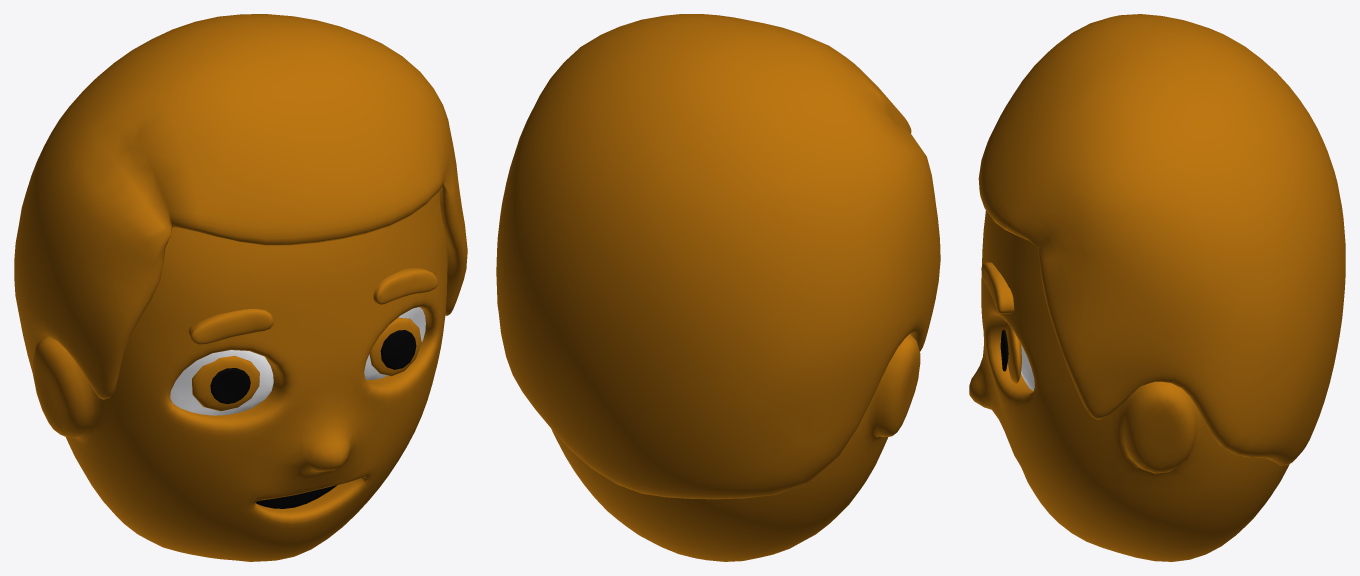
Rendered from man FBX.FBX.
The picture shows the model from 3 angles, left to right: view 1: azimuth 30°, elevation 25°; view 2: azimuth 150°, elevation 25°; view 3: azimuth 270°, elevation 25°; orthographic projection. The views are drawn at different scales.
Parts seen in each view (by area): view 1: Group27742, Group003, Group52900, Group1, ZBrush_defualt_group001, ZBrush_defualt_group, ZBrush_defualt_group002, Group002, Group5453; view 2: Group27742, Group003; view 3: Group27742, Group003, ZBrush_defualt_group, Group002.
Part boxes in pixels (<box>): Group27742: <box>14,14,467,399</box>; Group003: <box>33,190,447,561</box>; Group52900: <box>170,307,425,415</box>; Group1: <box>188,309,273,344</box>; ZBrush_defualt_group001: <box>192,356,259,411</box>; ZBrush_defualt_group: <box>373,267,437,304</box>; ZBrush_defualt_group002: <box>210,368,250,404</box>; Group002: <box>369,317,421,376</box>; Group5453: <box>255,485,337,508</box>; Group27742: <box>496,14,940,499</box>; Group003: <box>551,334,920,561</box>; Group27742: <box>978,14,1345,465</box>; Group003: <box>969,211,1289,561</box>; ZBrush_defualt_group: <box>981,262,1014,313</box>; Group002: <box>1006,324,1021,383</box>.
Size of the model in its own units: 16.78 by 20.82 by 14.09.
